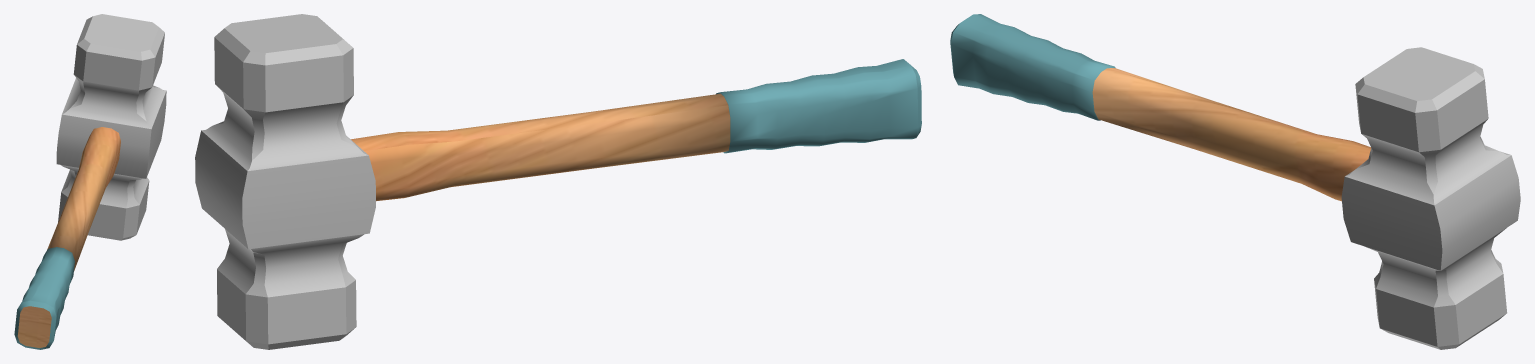
File: Hammer_1.fbx
3 renders of one model, left to right at view 1: azimuth 30°, elevation 25°; view 2: azimuth 150°, elevation 25°; view 3: azimuth 270°, elevation 25°, orthographic. The views are drawn at different scales.
Parts seen in each view (by area): view 1: Hammer_1; view 2: Hammer_1; view 3: Hammer_1.
Boxes of the visible parts, bbox=[...] form: Hammer_1: bbox=[14, 14, 166, 349]; Hammer_1: bbox=[195, 14, 921, 349]; Hammer_1: bbox=[950, 14, 1520, 349].
Size of the model in its own units: 40.5 by 24.04 by 46.77.
3 materials, 1 textured.
